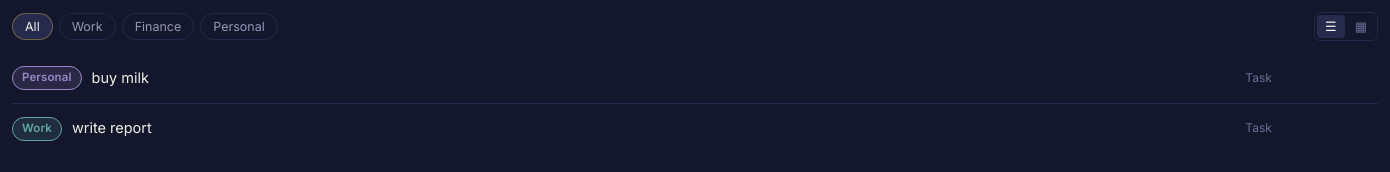
EntryList › filters entries by domain when a filter pill is clicked
The image size is (1390, 172).
Click the button "Work": {"x": 87, "y": 26} [59,13,116,40]
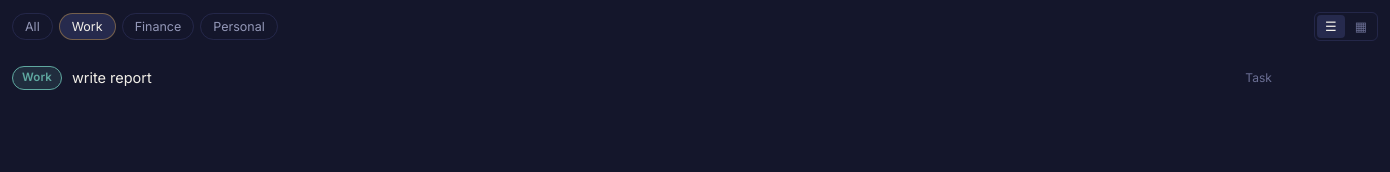
Expected: the text "write report" is shown, [72,69,152,86]
Expected: the text "buy milk" is gone
